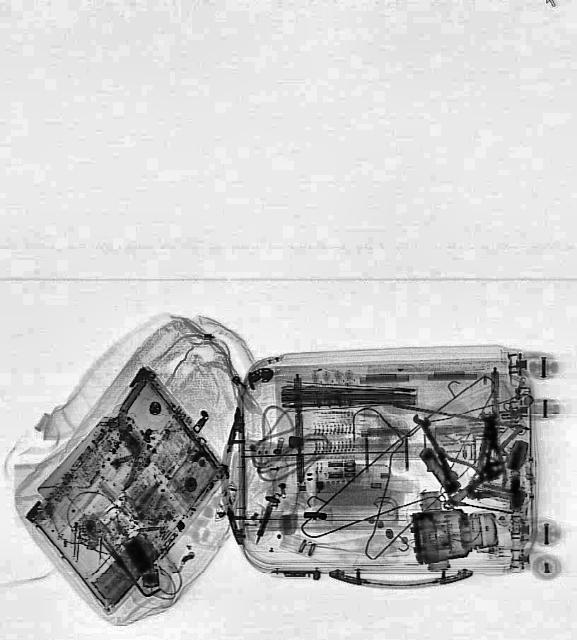Wrench: (411, 411, 463, 491)
